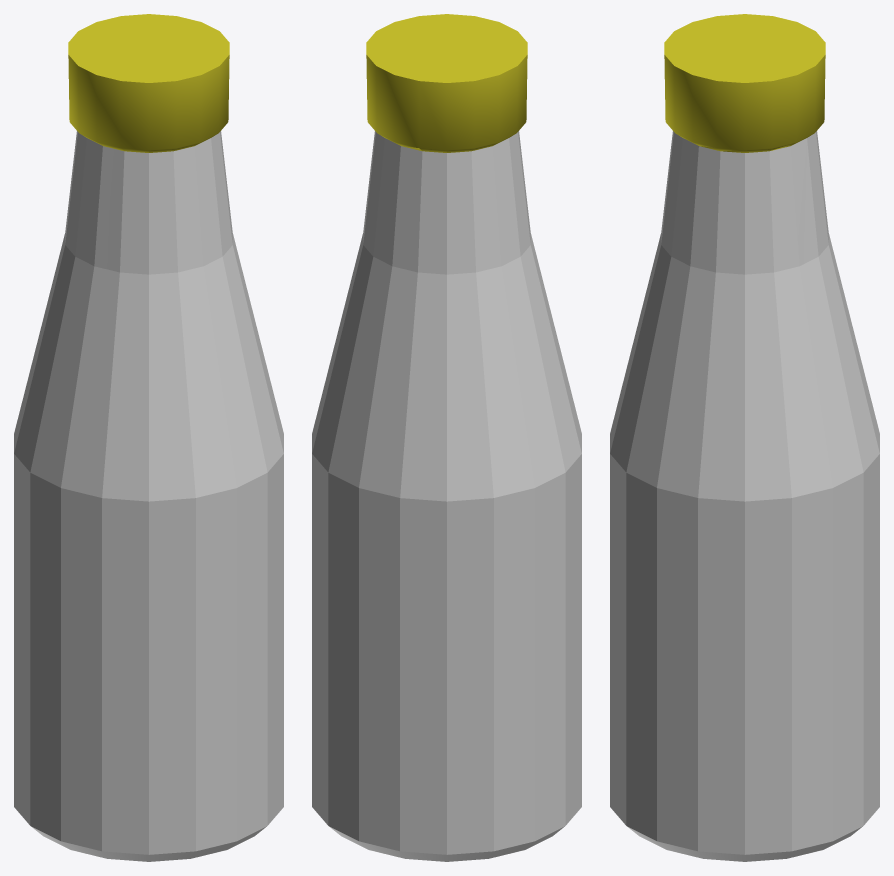
The model's file is pingzi3.fbx.
3 renders of one model, left to right at view 1: azimuth 30°, elevation 25°; view 2: azimuth 150°, elevation 25°; view 3: azimuth 270°, elevation 25°, orthographic.
Visible parts, largest first — view 1: Cylinder050, Cylinder050.001; view 2: Cylinder050, Cylinder050.001; view 3: Cylinder050, Cylinder050.001.
Part boxes in pixels (box(x1,y1,x2,y2)): Cylinder050: box(14, 131, 283, 861); Cylinder050.001: box(68, 14, 229, 152); Cylinder050: box(312, 131, 581, 861); Cylinder050.001: box(366, 14, 527, 152); Cylinder050: box(610, 131, 879, 861); Cylinder050.001: box(664, 14, 825, 152).
Size of the model in its own units: 7.75 by 23.78 by 7.64.
